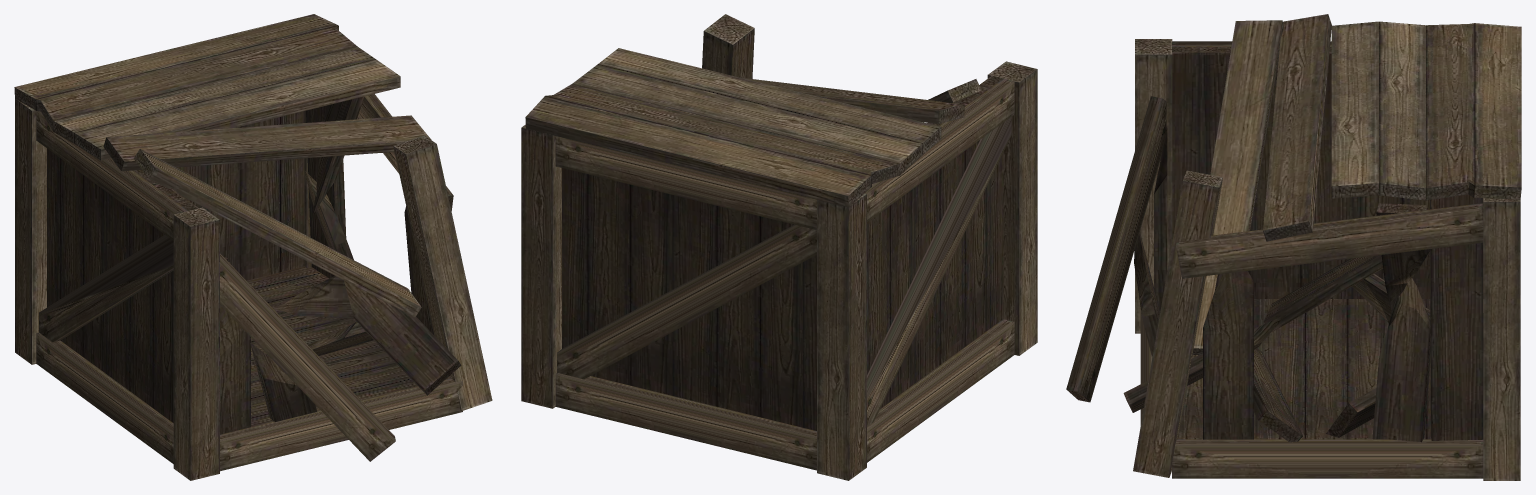
File: eso_gu10_Crate2-transformed.glb
The picture shows the model from 3 angles, left to right: view 1: azimuth 30°, elevation 25°; view 2: azimuth 150°, elevation 25°; view 3: azimuth 270°, elevation 25°; orthographic projection. The views are drawn at different scales.
Parts seen in each view (by area): view 1: default; view 2: default; view 3: default.
Part boxes in pixels (x1,y1,x2,y2): default: (14,14,492,480); default: (521,14,1037,480); default: (1066,14,1521,480).
Size of the model in its own units: 1.67 by 1.45 by 1.94.
Materials: 1 (1 with a texture image).
